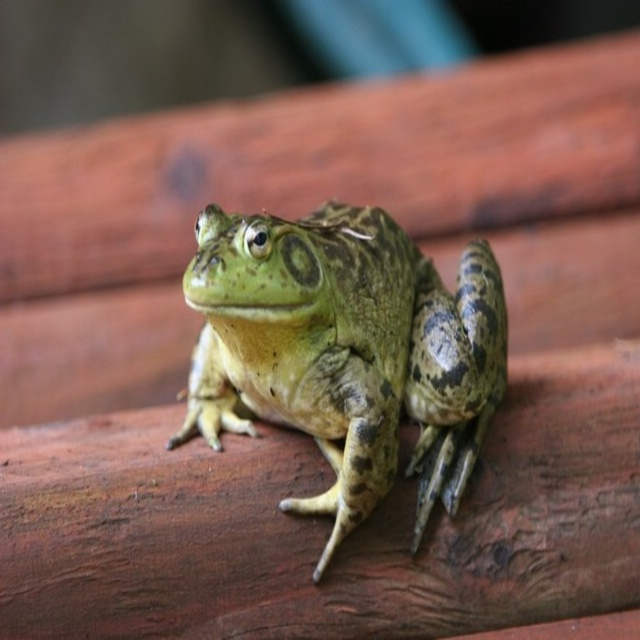Frog: (163, 201, 507, 586)
